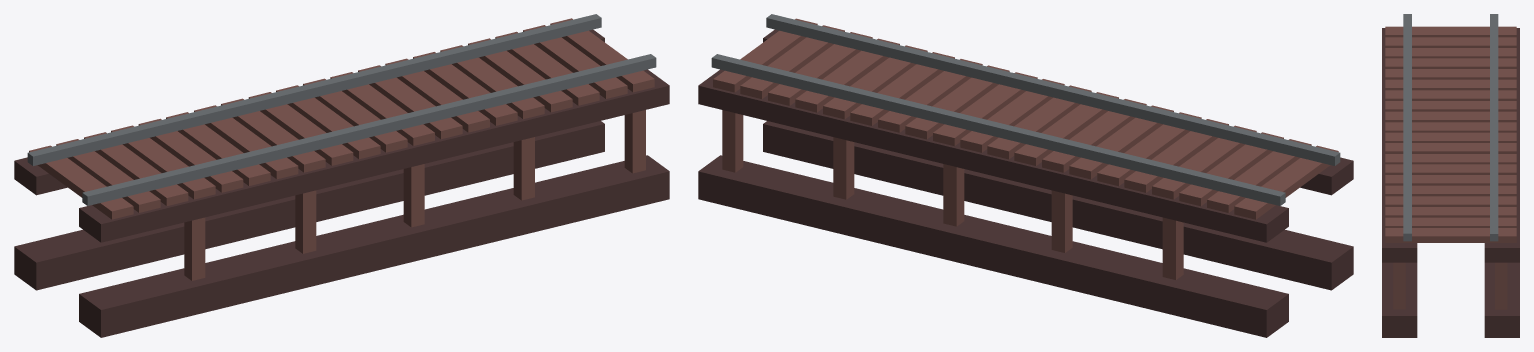
Rendered from DarkRoseWoodMechMedium1_5GaugeStraight1.fbx.
The picture shows the model from 3 angles, left to right: view 1: azimuth 30°, elevation 25°; view 2: azimuth 150°, elevation 25°; view 3: azimuth 270°, elevation 25°; orthographic projection. The views are drawn at different scales.
Parts seen in each view (by area): view 1: DarkRoseWoodMechMedium1_5GaugeStraight1; view 2: DarkRoseWoodMechMedium1_5GaugeStraight1; view 3: DarkRoseWoodMechMedium1_5GaugeStraight1.
Part boxes in pixels (x1,y1,x2,y2): DarkRoseWoodMechMedium1_5GaugeStraight1: (14, 14, 669, 337); DarkRoseWoodMechMedium1_5GaugeStraight1: (698, 14, 1353, 337); DarkRoseWoodMechMedium1_5GaugeStraight1: (1382, 14, 1519, 337).
Bounding box in the file's own units: 1000 × 221 × 265.
